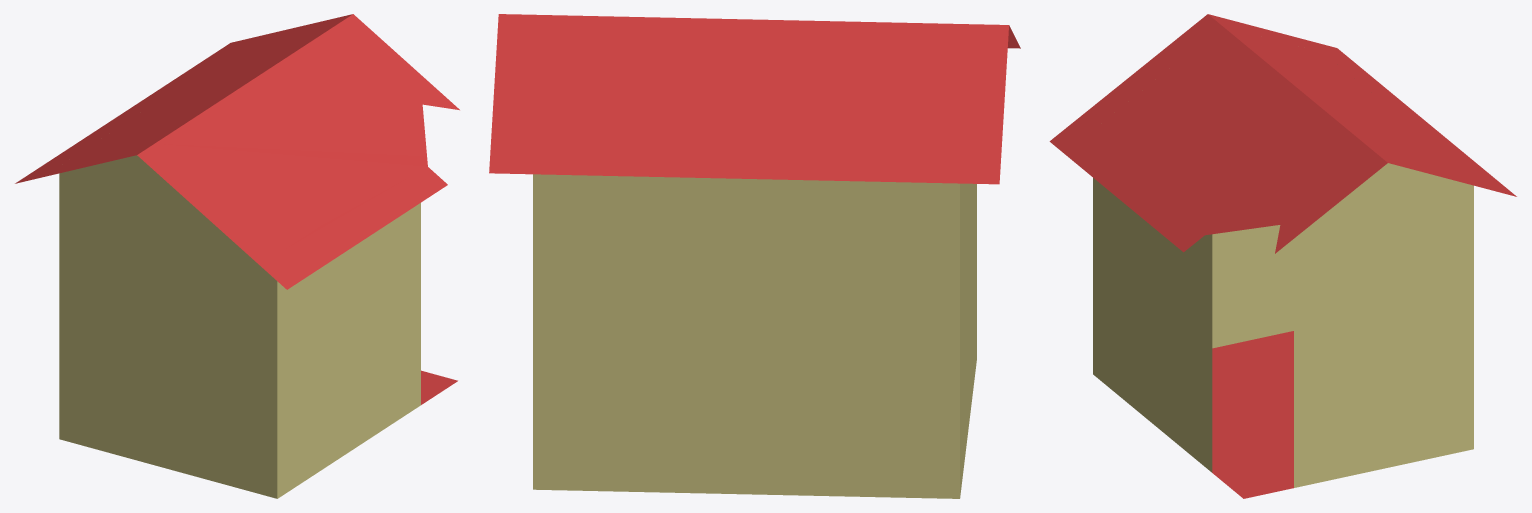
3 renders of one model, left to right at view 1: azimuth 30°, elevation 25°; view 2: azimuth 150°, elevation 25°; view 3: azimuth 270°, elevation 25°, orthographic. The views are drawn at different scales.
Size of the model in its own units: 14.76 by 14.5 by 10.94.
